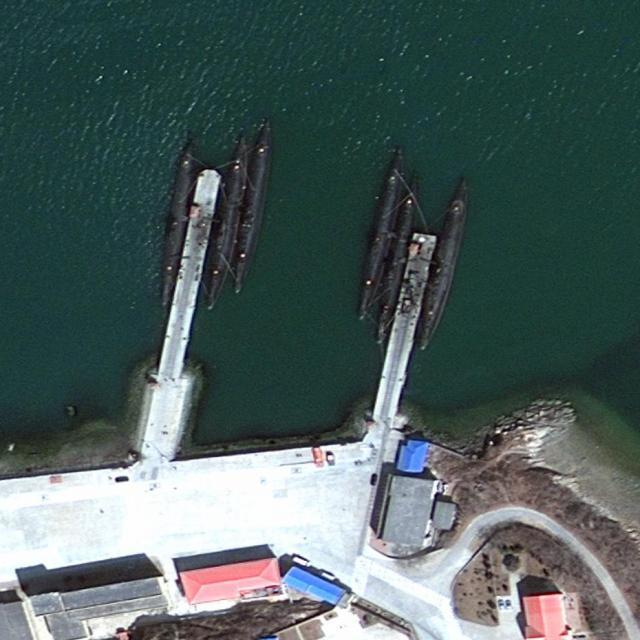Submarine: (409, 172, 478, 355), (352, 140, 408, 325), (223, 116, 279, 298), (197, 132, 250, 314), (154, 136, 202, 307), (374, 167, 419, 349)
